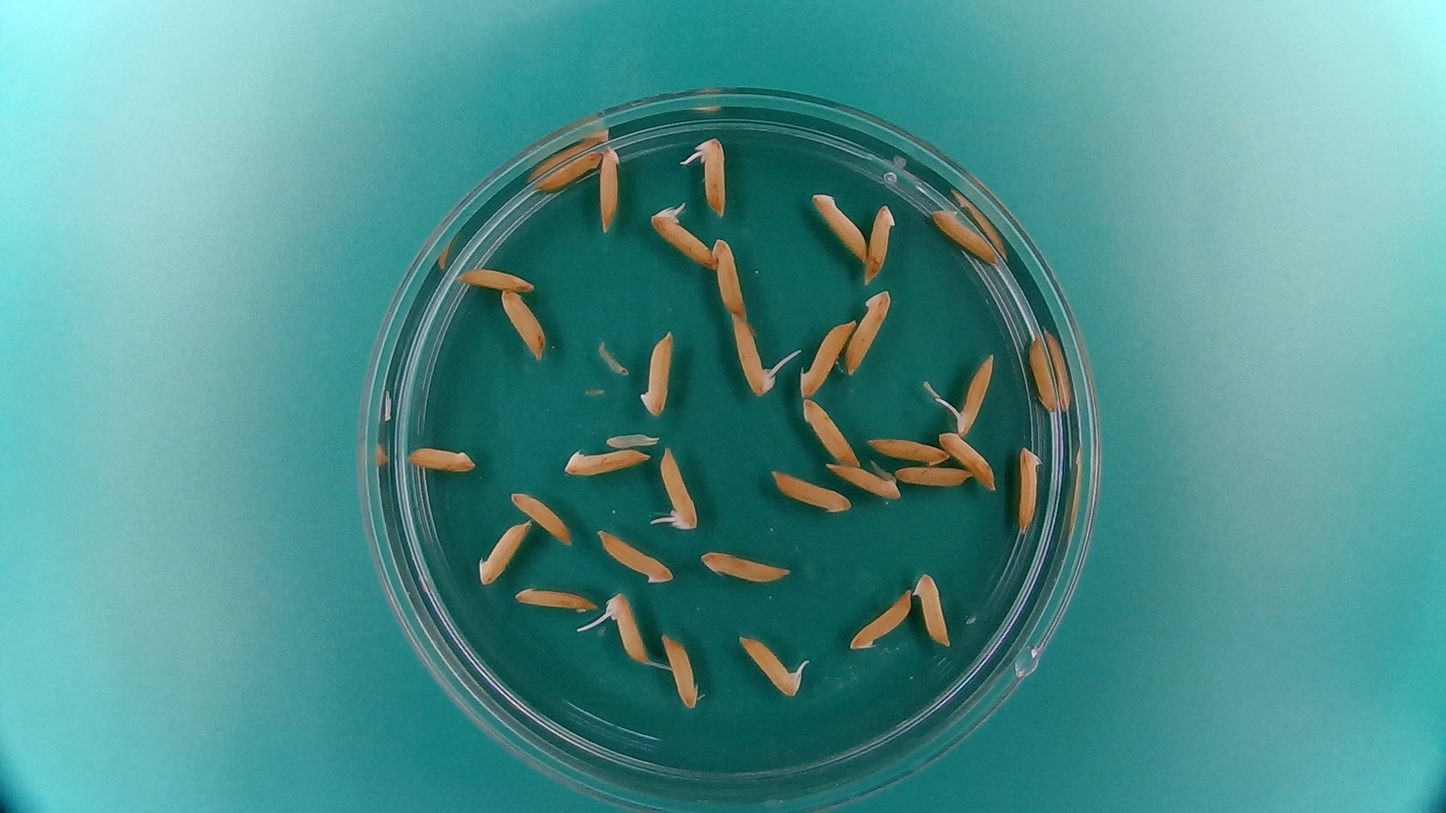no: (927, 202, 1002, 266), (797, 316, 855, 397), (801, 396, 863, 468), (847, 586, 915, 651), (810, 188, 868, 263), (844, 288, 894, 375), (476, 517, 534, 589), (596, 530, 673, 583), (506, 489, 572, 547), (697, 546, 792, 586), (769, 468, 853, 513), (498, 287, 548, 361), (938, 429, 999, 489), (659, 629, 703, 711), (530, 145, 606, 192), (638, 324, 674, 416), (912, 568, 953, 648), (822, 461, 902, 501), (862, 431, 947, 467), (864, 199, 899, 285), (712, 236, 748, 318), (563, 447, 654, 479), (1013, 441, 1043, 537), (511, 582, 597, 614), (1027, 333, 1060, 415), (596, 139, 624, 234), (456, 262, 538, 294), (404, 442, 477, 475), (893, 462, 970, 488)
yes: (740, 640, 808, 699), (650, 211, 716, 269), (731, 315, 775, 400), (953, 354, 996, 437), (659, 448, 698, 534), (697, 133, 731, 220), (606, 595, 649, 663)
